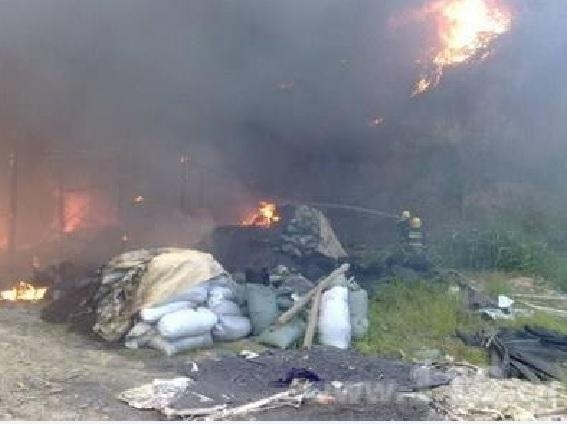fire: (409, 0, 511, 83), (239, 197, 281, 226)
